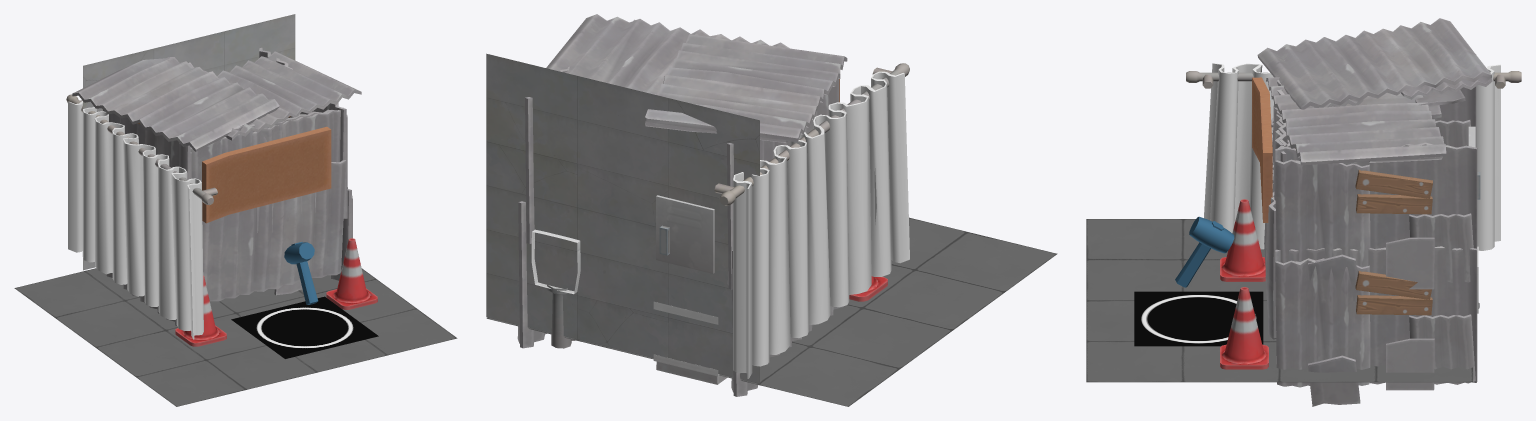
Rendered from Bathroom.fbx.
The picture shows the model from 3 angles, left to right: view 1: azimuth 30°, elevation 25°; view 2: azimuth 150°, elevation 25°; view 3: azimuth 270°, elevation 25°; orthographic projection. The views are drawn at different scales.
Parts seen in each view (by area): view 1: Mat_MetalBoard_01_1, Mat_Tile_FloorCement02, Mat_Indoors_WC_02, Mat_PaperBox_02, Mat_Tile_BrickWall03, BuildingInteractRing, Mat_Roadblocks01, EdgeLight_build, Mat_Tile_Color_07 1; view 2: Mat_Tile_BrickWall03, Mat_Indoors_WC_02, Mat_MetalBoard_01_1, Mat_Tile_FloorCement02, Mat_Locker_01_01, Mat_Indoors_WC_01, Mat_Tile_Color_07 1; view 3: Mat_MetalBoard_01_1, Mat_Tile_FloorCement02, Mat_MetalBoard_01_3, Mat_Indoors_WC_02, Mat_MetalBoard_01_4, BuildingInteractRing, Mat_WoodBoards_01_2, Mat_Roadblocks01, Mat_PaperBox_02, EdgeLight_build, Mat_Tile_Color_07 1.
Boxes of the visible parts, left/top/right/bottom form: Mat_MetalBoard_01_1: left=72, top=47, right=361, bottom=325; Mat_Tile_FloorCement02: left=14, top=268, right=457, bottom=406; Mat_Indoors_WC_02: left=68, top=101, right=203, bottom=339; Mat_PaperBox_02: left=202, top=126, right=331, bottom=223; Mat_Tile_BrickWall03: left=83, top=14, right=295, bottom=270; BuildingInteractRing: left=231, top=296, right=378, bottom=358; Mat_Roadblocks01: left=175, top=238, right=377, bottom=346; EdgeLight_build: left=284, top=241, right=318, bottom=304; Mat_Tile_Color_07 1: left=66, top=94, right=217, bottom=205; Mat_Tile_BrickWall03: left=486, top=53, right=759, bottom=383; Mat_Indoors_WC_02: left=733, top=71, right=909, bottom=378; Mat_MetalBoard_01_1: left=518, top=14, right=847, bottom=396; Mat_Tile_FloorCement02: left=486, top=217, right=1057, bottom=406; Mat_Locker_01_01: left=656, top=195, right=714, bottom=273; Mat_Indoors_WC_01: left=531, top=229, right=727, bottom=384; Mat_Tile_Color_07 1: left=714, top=63, right=909, bottom=205; Mat_MetalBoard_01_1: left=1257, top=18, right=1491, bottom=406; Mat_Tile_FloorCement02: left=1086, top=219, right=1472, bottom=382; Mat_MetalBoard_01_3: left=1275, top=75, right=1492, bottom=387; Mat_Indoors_WC_02: left=1204, top=63, right=1500, bottom=250; Mat_MetalBoard_01_4: left=1306, top=99, right=1475, bottom=383; BuildingInteractRing: left=1134, top=291, right=1263, bottom=346; Mat_WoodBoards_01_2: left=1295, top=148, right=1432, bottom=315; Mat_Roadblocks01: left=1220, top=199, right=1268, bottom=369; Mat_PaperBox_02: left=1252, top=77, right=1272, bottom=222; EdgeLight_build: left=1175, top=216, right=1234, bottom=287; Mat_Tile_Color_07 1: left=1186, top=71, right=1521, bottom=88.
Size of the model in its own units: 4.31 by 3.47 by 4.86.
Materials: 14 (14 with a texture image).
